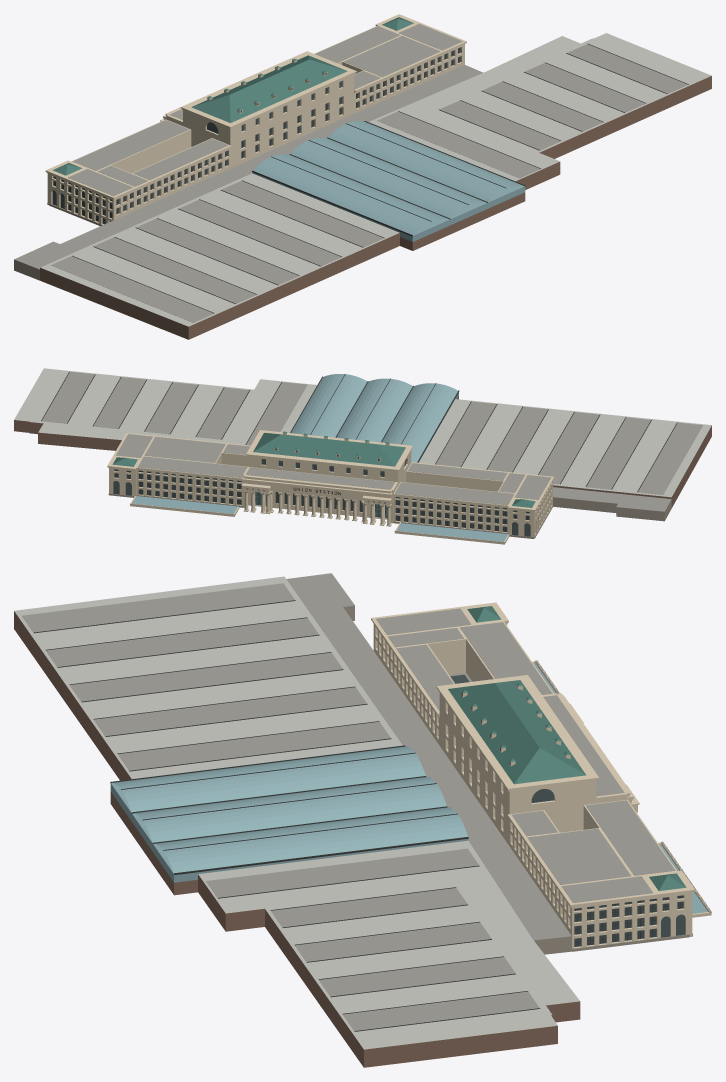
Rendered from union-station-near.glb.
3 renders of one model, top to bottom at view 1: azimuth 30°, elevation 25°; view 2: azimuth 150°, elevation 25°; view 3: azimuth 270°, elevation 25°, orthographic. The views are drawn at different scales.
Parts seen in each view (by area): view 1: union-station-0-roof, union-station-0-shed, union-station-0-stone, union-station-0-atrium, union-station-0-brick, union-station-0-metal, union-station-0-copper, union-station-0-glass; view 2: union-station-0-roof, union-station-0-shed, union-station-0-stone, union-station-0-atrium, union-station-0-copper, union-station-0-glass, union-station-0-metal, union-station-0-base, union-station-0-brick, union-station-0-glow; view 3: union-station-0-roof, union-station-0-shed, union-station-0-atrium, union-station-0-stone, union-station-0-brick, union-station-0-metal, union-station-0-copper, union-station-0-glass, union-station-0-base.
Part boxes in pixels (left/top/right/bottom): union-station-0-roof: left=14, top=24, right=687, bottom=322; union-station-0-shed: left=40, top=33, right=711, bottom=326; union-station-0-stone: left=45, top=14, right=466, bottom=224; union-station-0-atrium: left=252, top=121, right=525, bottom=241; union-station-0-brick: left=40, top=76, right=711, bottom=339; union-station-0-metal: left=53, top=43, right=688, bottom=313; union-station-0-copper: left=53, top=17, right=413, bottom=175; union-station-0-glass: left=53, top=47, right=460, bottom=224; union-station-0-roof: left=41, top=371, right=702, bottom=511; union-station-0-shed: left=14, top=368, right=711, bottom=497; union-station-0-stone: left=107, top=430, right=554, bottom=544; union-station-0-atrium: left=132, top=374, right=508, bottom=541; union-station-0-copper: left=112, top=431, right=535, bottom=507; union-station-0-glass: left=114, top=448, right=529, bottom=531; union-station-0-metal: left=41, top=371, right=677, bottom=531; union-station-0-base: left=108, top=468, right=671, bottom=542; union-station-0-brick: left=14, top=396, right=711, bottom=507; union-station-0-glow: left=113, top=459, right=530, bottom=536; union-station-0-roof: left=22, top=573, right=675, bottom=1030; union-station-0-shed: left=14, top=576, right=579, bottom=1049; union-station-0-atrium: left=110, top=663, right=707, bottom=913; union-station-0-stone: left=371, top=602, right=711, bottom=948; union-station-0-brick: left=14, top=611, right=580, bottom=1067; union-station-0-metal: left=34, top=600, right=683, bottom=1031; union-station-0-copper: left=448, top=606, right=686, bottom=890; union-station-0-glass: left=450, top=674, right=683, bottom=946; union-station-0-base: left=343, top=605, right=711, bottom=954.
Size of the model in its own units: 367 by 32.49 by 226.
